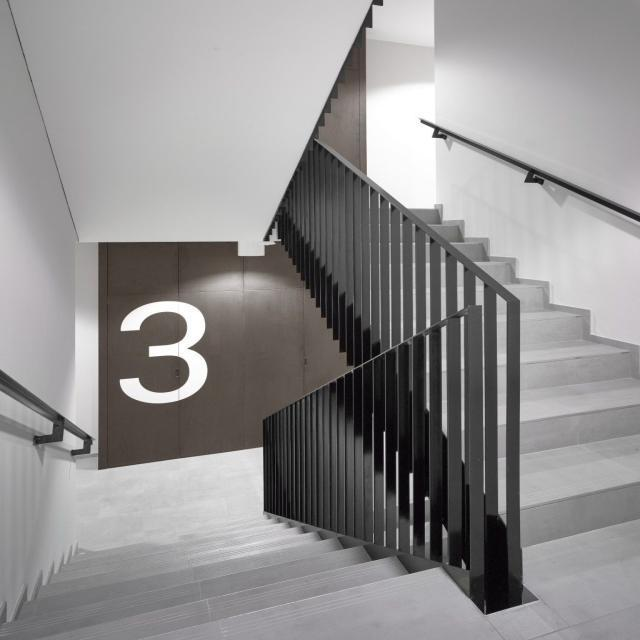stairs: (399, 203, 639, 550)
